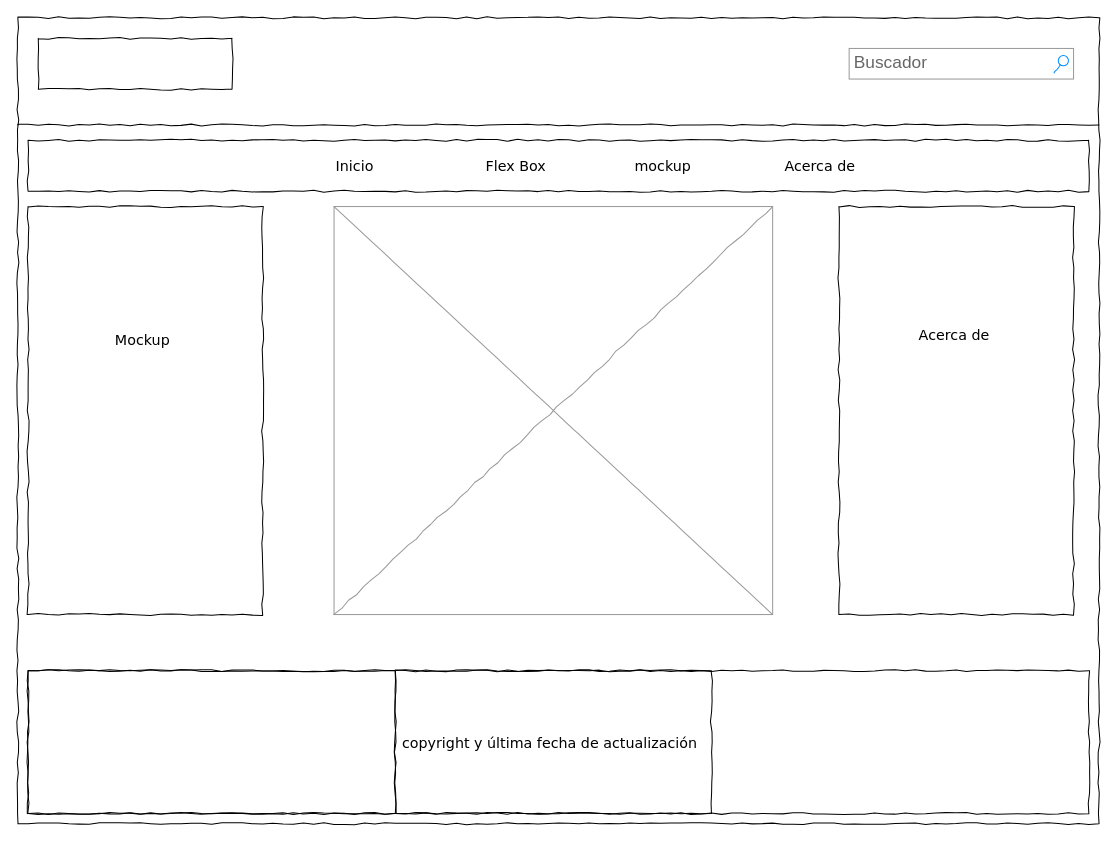
Image size: 1117x842. Some labels were removed from this diagram. Here are the shapes that lost their labels. From the top down, the centre of each, then its label:
point 134,63: Web Design
point 553,410: conceptos fundamentales de Flex BOX
